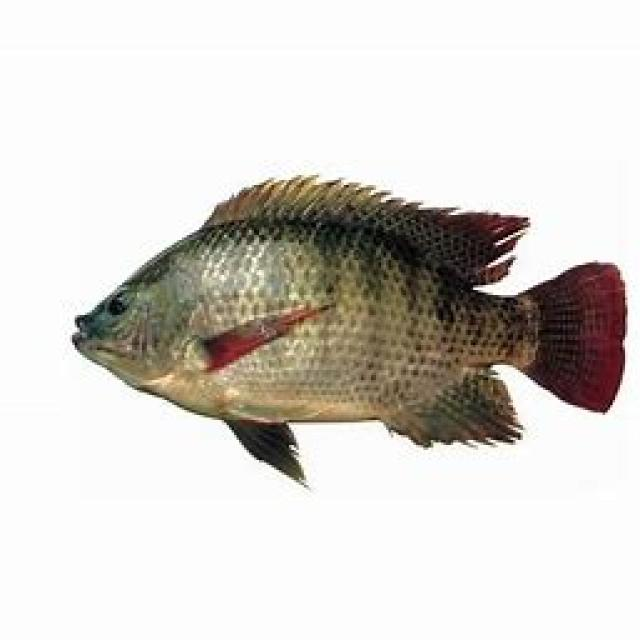Tilapia: (72, 177, 626, 487)
